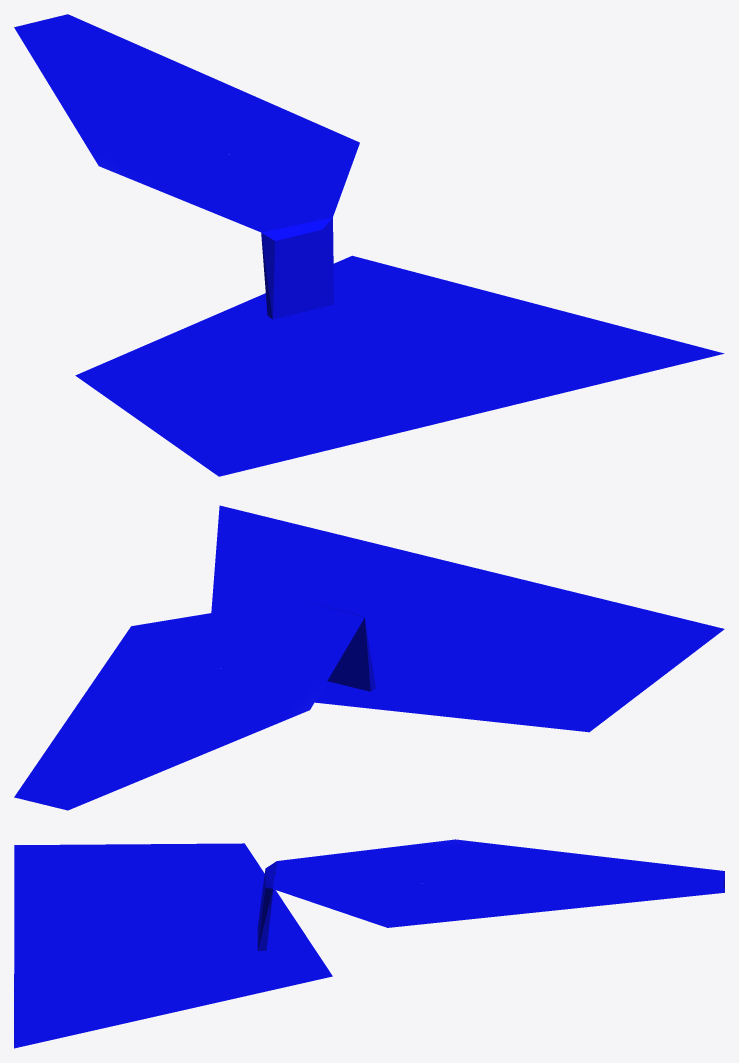
File: water.obj
3 renders of one model, top to bottom at view 1: azimuth 30°, elevation 25°; view 2: azimuth 150°, elevation 25°; view 3: azimuth 270°, elevation 25°, orthographic. The views are drawn at different scales.
Parts seen in each view (by area): view 1: Plane; view 2: Plane; view 3: Plane.
Part boxes in pixels (<box>): Plane: <box>14,14,724,476</box>; Plane: <box>14,505,724,810</box>; Plane: <box>14,839,724,1048</box>.
Size of the model in its own units: 35.19 by 5.26 by 51.56.
Materials: 1 (1 with a texture image).
